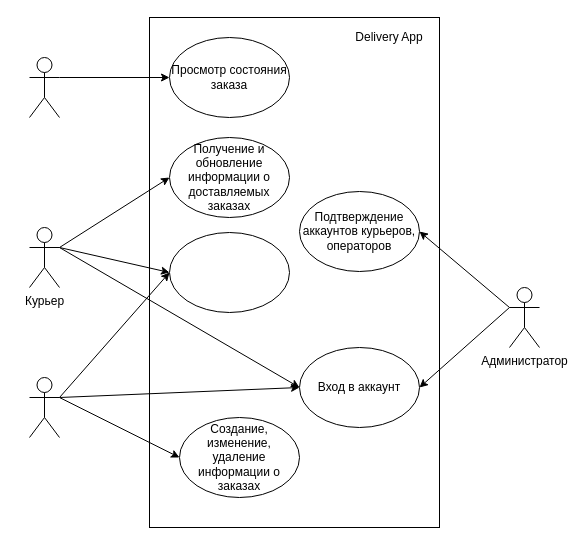
The diagram is 585 pixels wide and 545 high, and some of its shapes have lost their labels. The shapes that lost their labels are listed below. From the top down, each one's centre as x and y in pixels, then its label:
(x=44, y=87): Заказчик
(x=229, y=272): Регистрация
(x=44, y=407): Оператор
